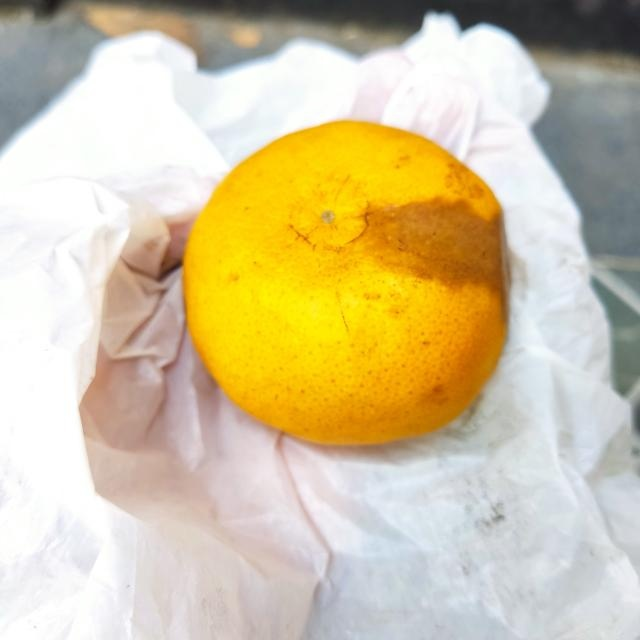agrume: (183, 119, 510, 449)
